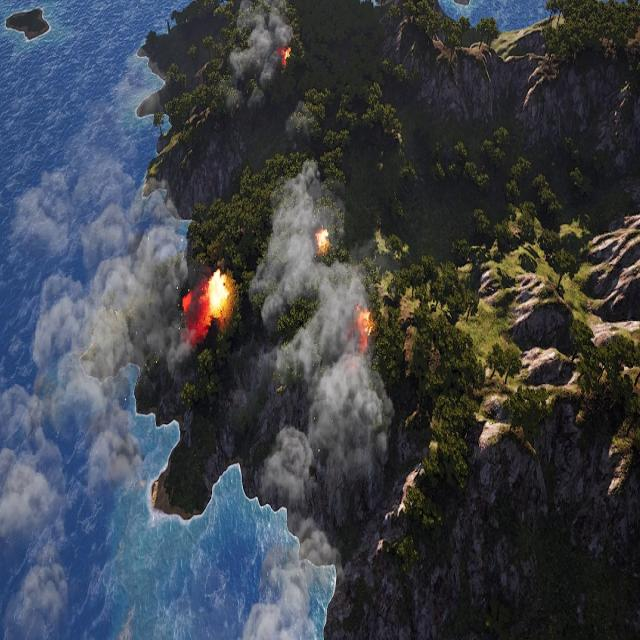fire: (207, 271, 231, 323), (356, 306, 374, 341), (316, 230, 329, 252), (280, 44, 291, 64)
smoke: (0, 154, 195, 637), (234, 165, 396, 639), (228, 0, 293, 108)
